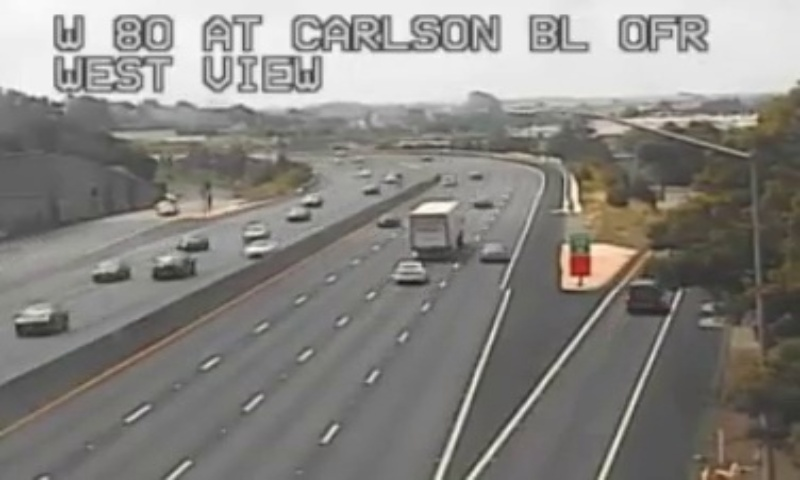car: (391, 259, 425, 283), (478, 241, 508, 261)
truck: (407, 200, 461, 256)
